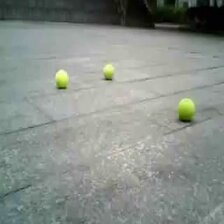tennis: (178, 98, 195, 120), (54, 69, 67, 86), (103, 64, 114, 79)
